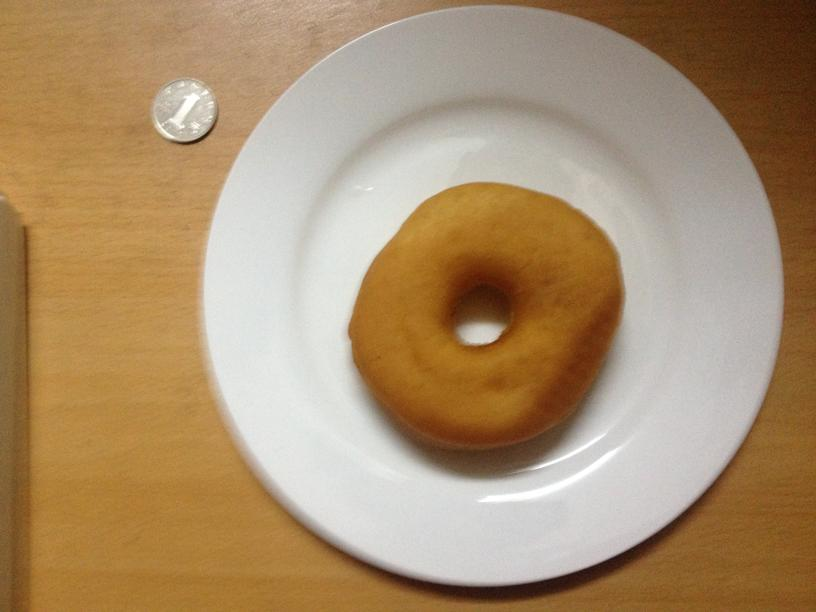coin: (151, 77, 216, 143)
doughnut: (343, 182, 626, 451)
